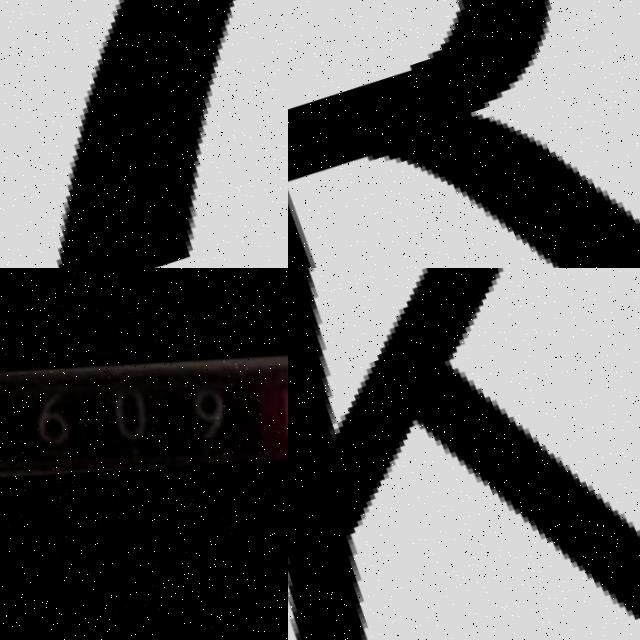0: (92, 372, 160, 448)
1: (252, 369, 288, 447)
6: (11, 376, 82, 457)
7: (0, 0, 288, 268)
9: (168, 369, 239, 452)
K: (288, 268, 640, 640)
R: (288, 0, 640, 268)
